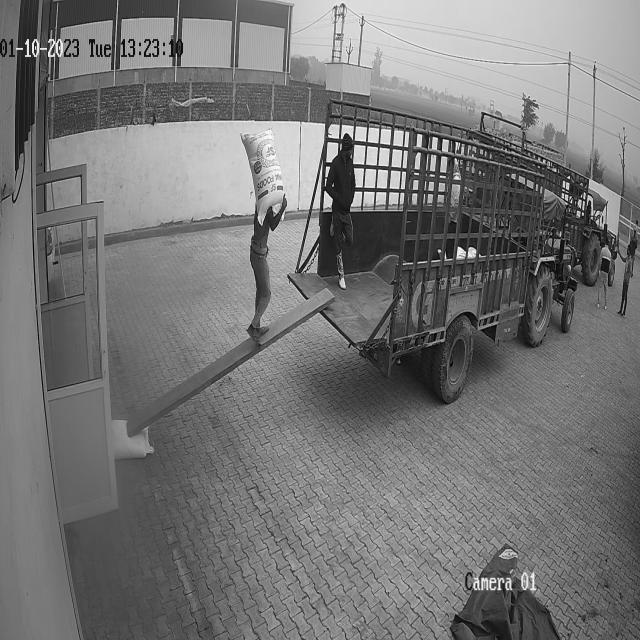sack: (240, 129, 284, 228), (111, 418, 154, 458)
